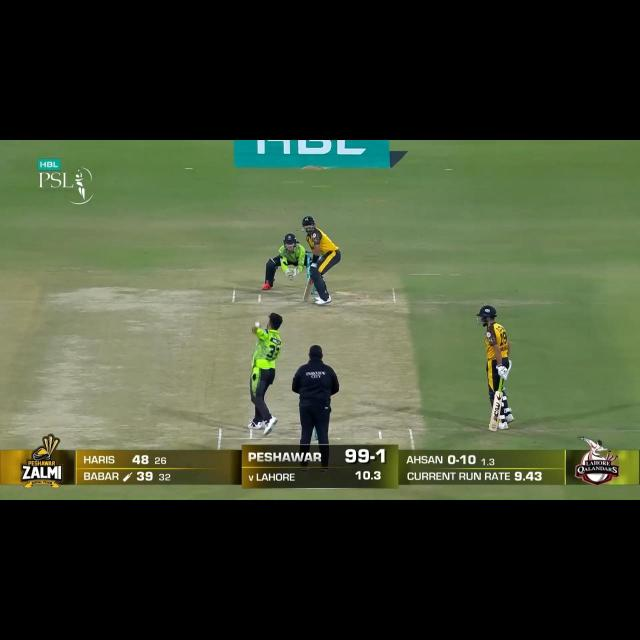bat: (487, 394, 505, 433), (302, 278, 316, 304)
toe: (486, 422, 499, 434), (302, 296, 310, 305)
